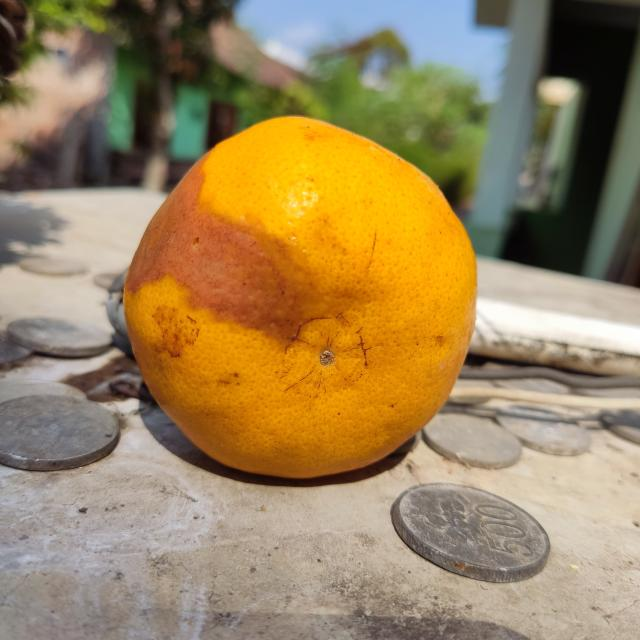orange: (121, 111, 480, 481)
